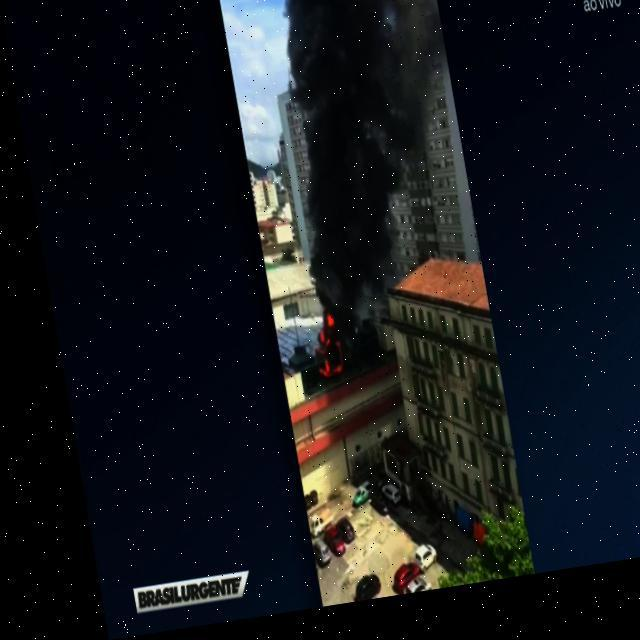Fire: (304, 368, 328, 388), (302, 338, 318, 366), (312, 322, 321, 334)
